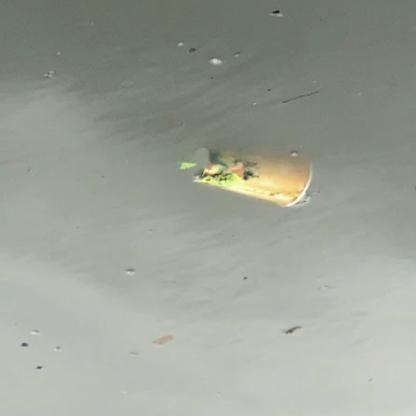Plastic: (187, 142, 316, 210)
